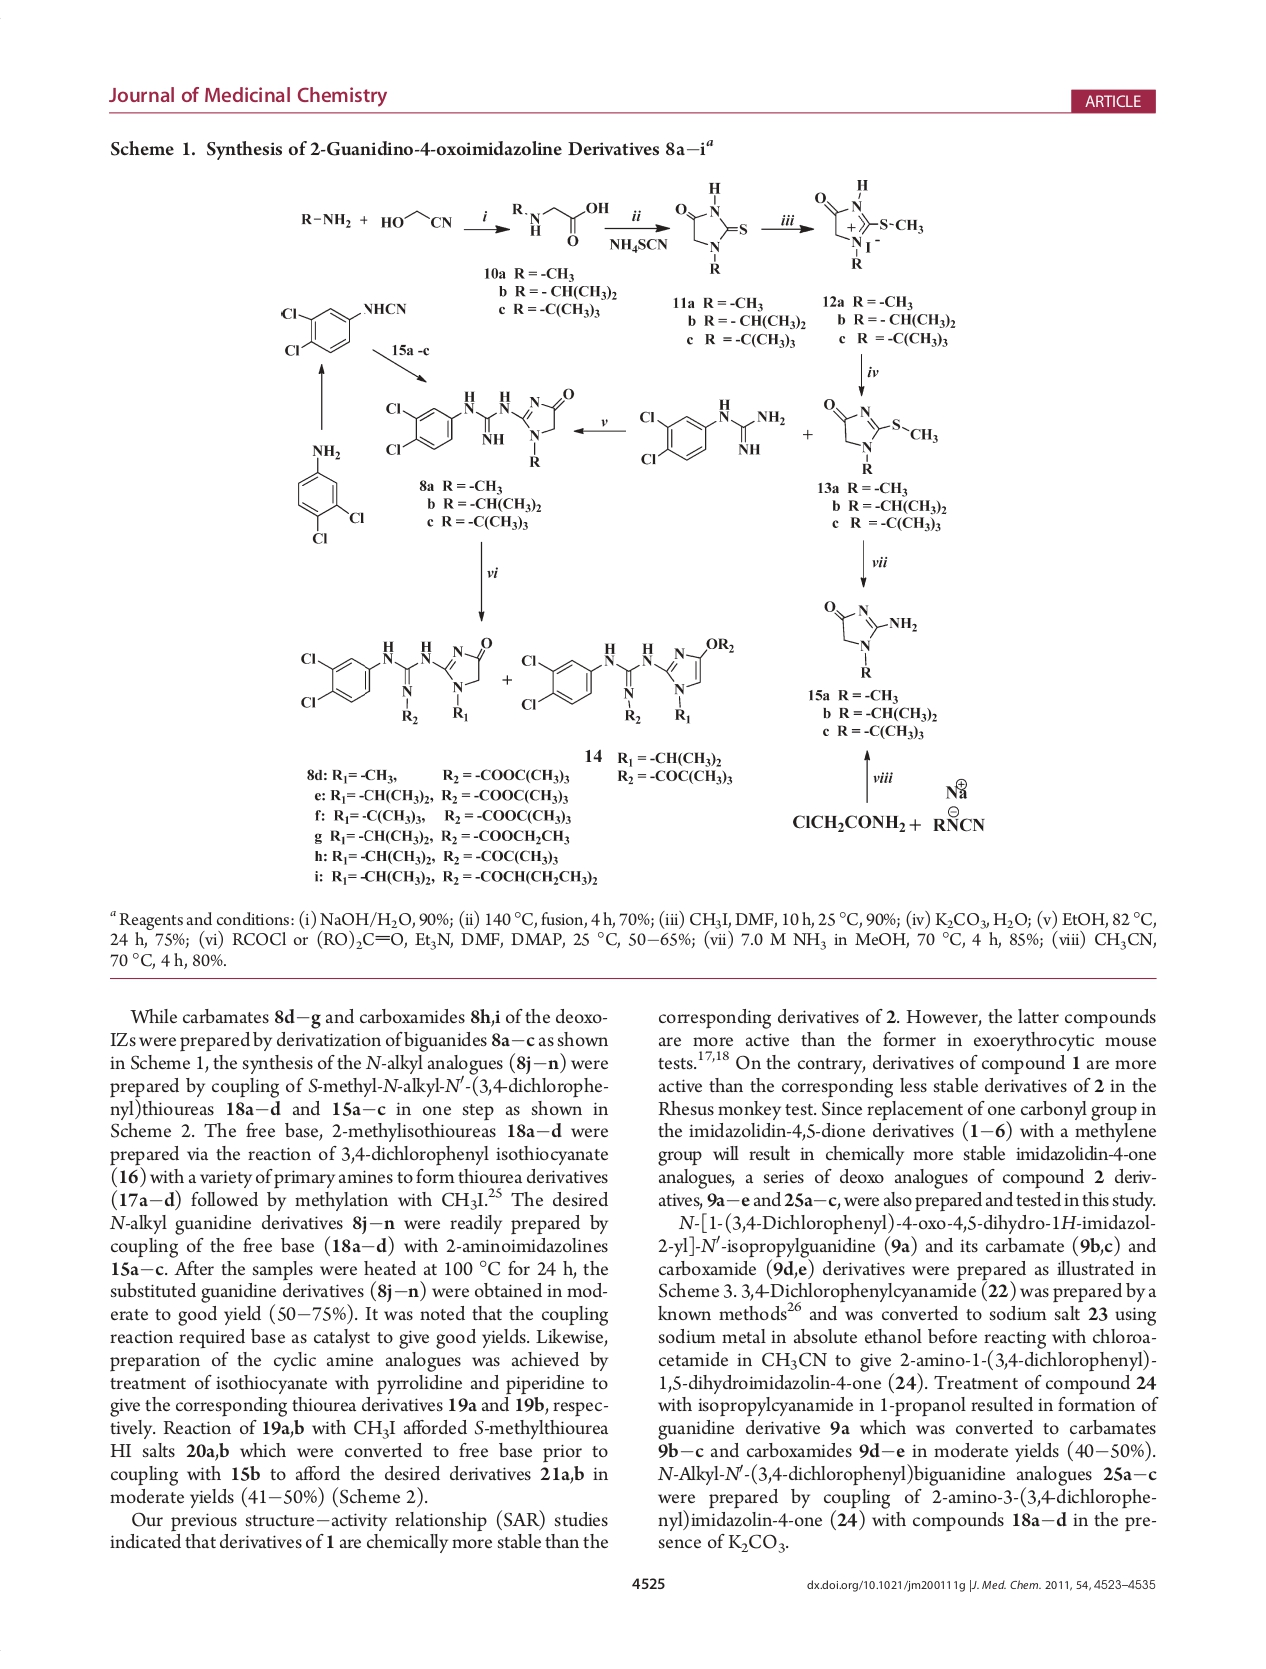exist_molecular: (519, 634, 738, 729), (293, 634, 496, 729), (382, 386, 577, 469), (813, 172, 926, 274), (633, 396, 787, 467), (823, 395, 940, 477), (821, 592, 922, 684), (289, 438, 372, 547), (275, 297, 410, 358), (672, 180, 747, 281), (512, 195, 610, 249), (375, 203, 453, 241)
